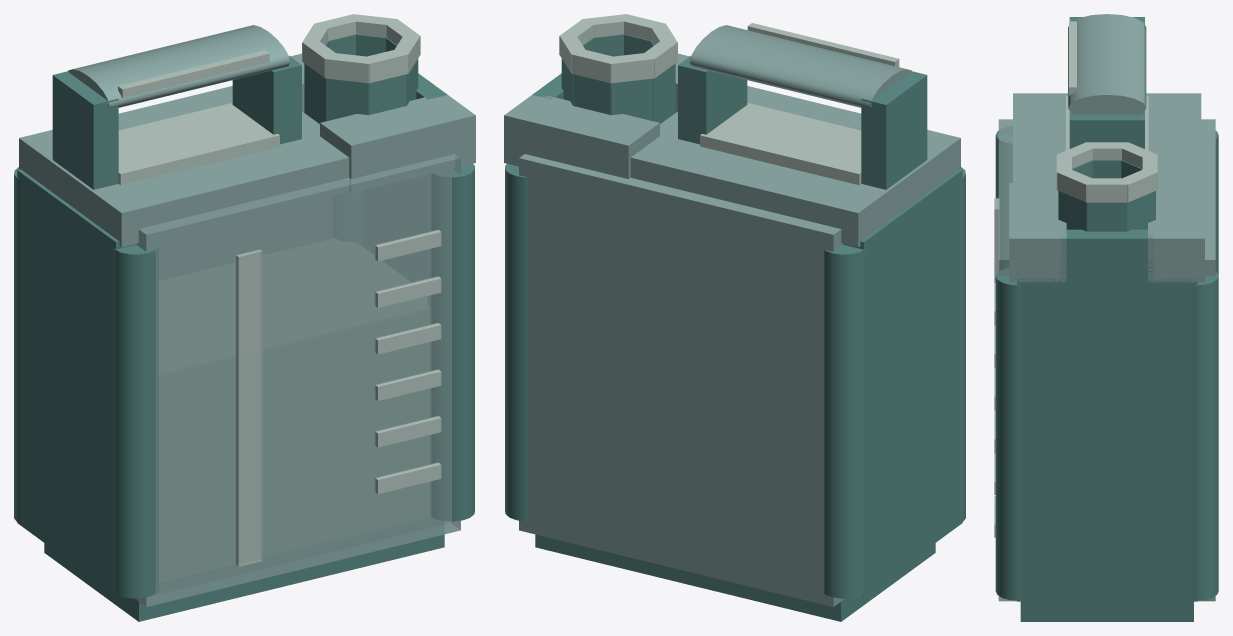
Rendered from CMU3DReagentJugFill3StudyCloud.glb.
3 views of the same model, side by side, from view 1: azimuth 30°, elevation 25°; view 2: azimuth 150°, elevation 25°; view 3: azimuth 270°, elevation 25° (orthographic). The views are drawn at different scales.
Parts seen in each view (by area): view 1: front translucent jug wall, left molded jug wall, rounded canister corner (×3), jug shoulder left deck, jug shoulder front around spout, front vertical molding, handle inner lower ledge, handle rounded bridge, handle left upright, closed molded jug floor, handle right upright, handle top glint (+14 smaller); view 2: back molded jug wall, left molded jug wall, rounded canister corner (×3), jug shoulder left deck, handle rounded bridge, jug shoulder rear around spout, handle inner lower ledge, handle left upright, closed molded jug floor, handle right upright, hollow pouring neck 04, handle top glint (+7 smaller); view 3: right molded jug wall, rounded canister corner (×4), jug shoulder left deck, handle rounded bridge, jug shoulder front around spout, jug shoulder rear around spout, jug shoulder right around spout, closed molded jug floor, handle right upright, front translucent jug wall, back molded jug wall, hollow pouring neck 01 (+12 smaller).
Part boxes in pixels (x1,y1,x2,y2): front translucent jug wall: (136,154,460,606); left molded jug wall: (17,169,136,595); rounded canister corner (×3): (14,164,474,598); jug shoulder left deck: (19,86,349,247); jug shoulder front around spout: (320,95,475,192); front vertical molding: (236,249,262,566); handle inner lower ledge: (118,103,279,185); handle rounded bridge: (68,25,289,107); handle left upright: (52,71,118,189); closed molded jug floor: (44,534,444,621); handle right upright: (232,56,301,144); handle top glint: (118,50,269,98); back molded jug wall: (519,154,843,606); left molded jug wall: (843,169,962,595); rounded canister corner (×3): (505,164,965,598); jug shoulder left deck: (630,86,960,247); handle rounded bridge: (690,25,911,107); jug shoulder rear around spout: (504,95,659,178); handle inner lower ledge: (700,103,861,185); handle left upright: (861,71,927,189); closed molded jug floor: (535,534,935,621); handle right upright: (678,56,747,144); hollow pouring neck 04: (610,78,653,120); handle top glint: (747,23,899,66); right molded jug wall: (1017,278,1197,601); rounded canister corner (×4): (995,131,1218,600); jug shoulder left deck: (1013,93,1201,182); handle rounded bridge: (1068,14,1146,114); jug shoulder front around spout: (1009,183,1066,282); jug shoulder rear around spout: (1148,183,1204,282); jug shoulder right around spout: (1060,229,1153,282); closed molded jug floor: (1020,601,1193,621); handle right upright: (1069,111,1144,148); front translucent jug wall: (998,119,1016,601); back molded jug wall: (1198,119,1215,601); hollow pouring neck 01: (1086,202,1127,231).
Bounding box in the file's own units: 0.502 × 0.688 × 0.298.
